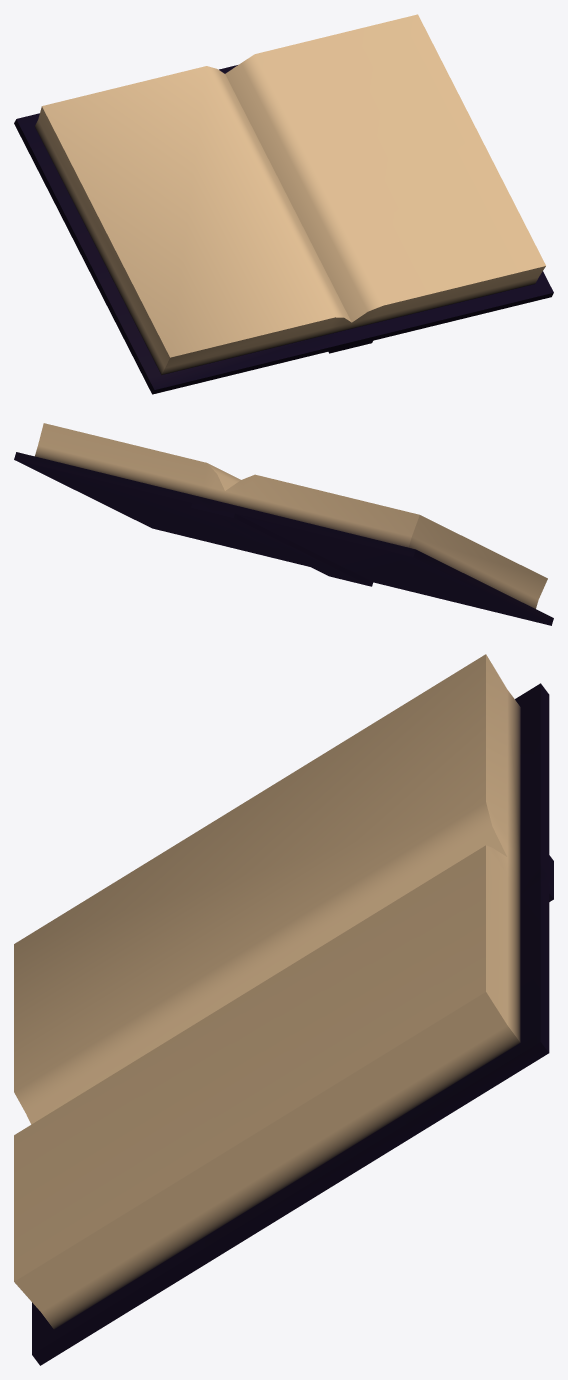
File: Book.fbx
3 renders of one model, top to bottom at view 1: azimuth 30°, elevation 25°; view 2: azimuth 150°, elevation 25°; view 3: azimuth 270°, elevation 25°, orthographic. The views are drawn at different scales.
Parts seen in each view (by area): view 1: Book; view 2: Book; view 3: Book.
Part boxes in pixels (x1=…): Book: x1=14, y1=14, x2=553, y2=394; Book: x1=14, y1=423, x2=553, y2=625; Book: x1=14, y1=654, x2=553, y2=1365.
Size of the model in its own units: 0.8801 by 0.4225 by 0.5599.
